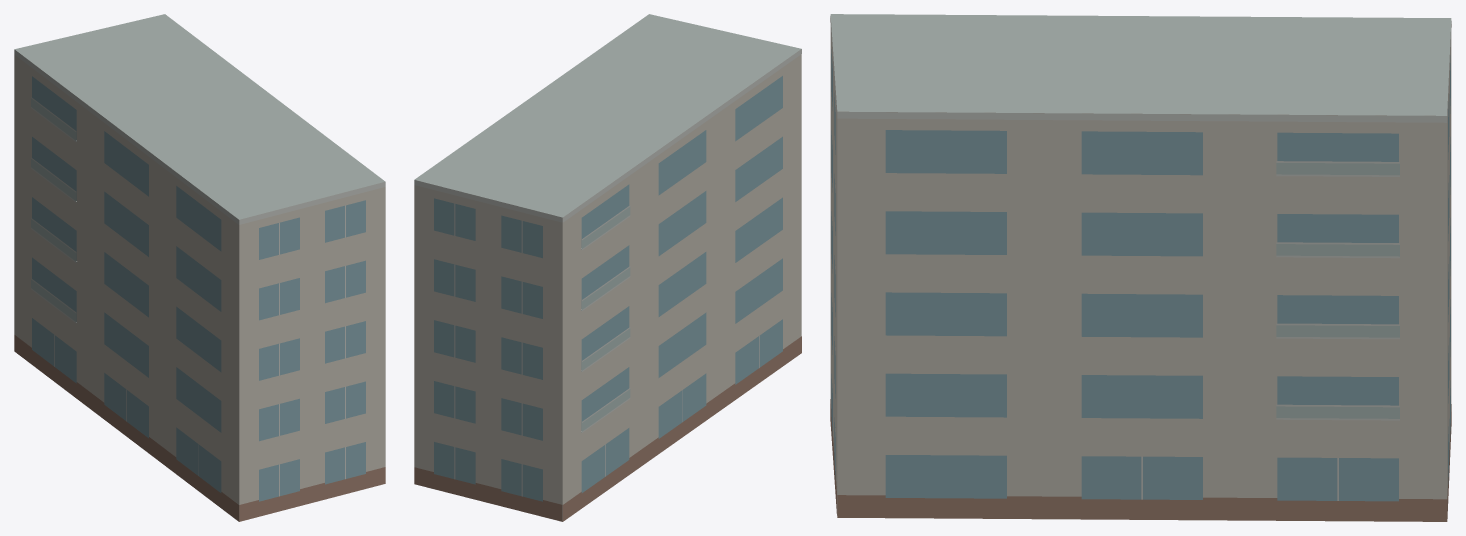
Rendered from survey-upis-32642309.glb.
The picture shows the model from 3 angles, left to right: view 1: azimuth 30°, elevation 25°; view 2: azimuth 150°, elevation 25°; view 3: azimuth 270°, elevation 25°; orthographic projection. The views are drawn at different scales.
Visible parts, largest first — view 1: survey-upis-32642309.tmp; view 2: survey-upis-32642309.tmp; view 3: survey-upis-32642309.tmp.
Boxes of the visible parts, left/top/right/bottom form: survey-upis-32642309.tmp: left=14, top=14, right=385, bottom=521; survey-upis-32642309.tmp: left=414, top=14, right=801, bottom=521; survey-upis-32642309.tmp: left=830, top=14, right=1451, bottom=521.
Size of the model in its own units: 7.66 by 14.2 by 19.69.
